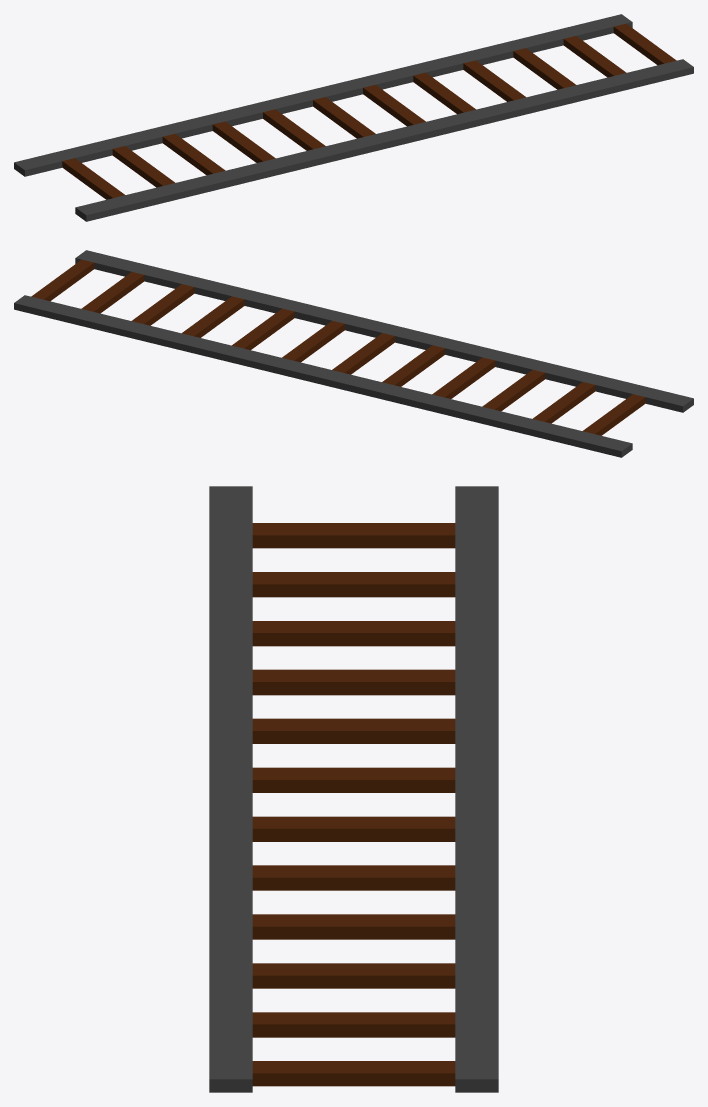
The model's file is trilho-2.obj.
3 renders of one model, top to bottom at view 1: azimuth 30°, elevation 25°; view 2: azimuth 150°, elevation 25°; view 3: azimuth 270°, elevation 25°, orthographic. The views are drawn at different scales.
Bounding box in the file's own units: 9.7 × 0.1 × 2.
Materials: 1 (1 with a texture image).
